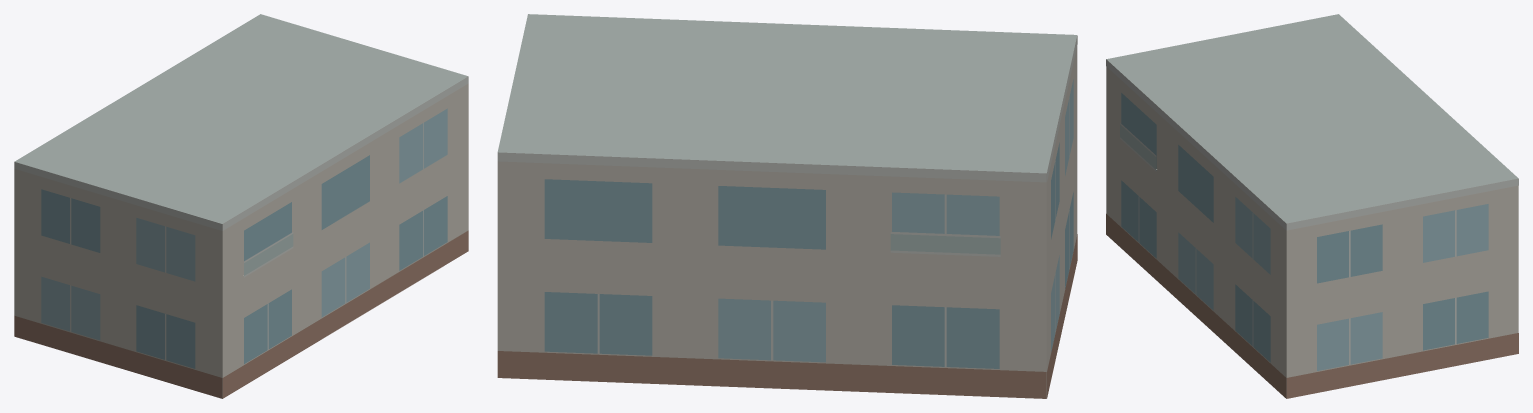
Rendered from survey-upis-32700486.glb.
3 renders of one model, left to right at view 1: azimuth 30°, elevation 25°; view 2: azimuth 150°, elevation 25°; view 3: azimuth 270°, elevation 25°, orthographic. The views are drawn at different scales.
Parts seen in each view (by area): view 1: survey-upis-32700486.tmp; view 2: survey-upis-32700486.tmp; view 3: survey-upis-32700486.tmp.
Part boxes in pixels (x1,y1,x2,y2): survey-upis-32700486.tmp: (14,14,468,398); survey-upis-32700486.tmp: (497,14,1077,398); survey-upis-32700486.tmp: (1106,14,1518,398).
Size of the model in its own units: 15.65 by 6.1 by 13.03.
